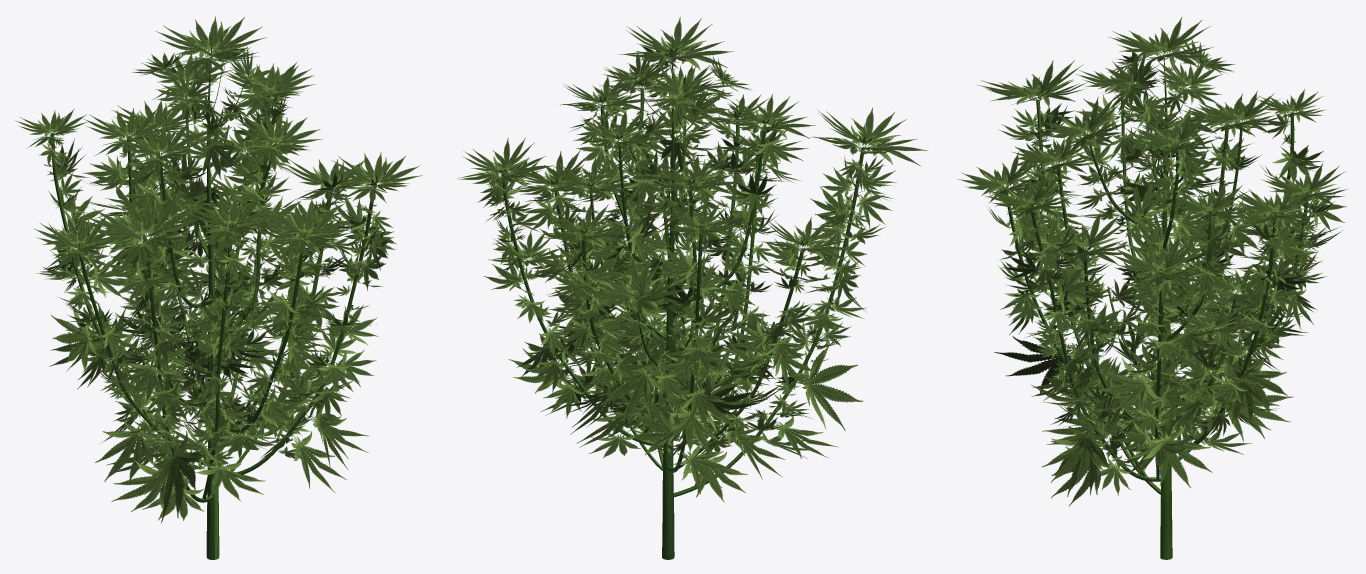
Rendered from Single_Maria_APPROVED.gltf.
3 renders of one model, left to right at view 1: azimuth 30°, elevation 25°; view 2: azimuth 150°, elevation 25°; view 3: azimuth 270°, elevation 25°, orthographic.
Parts seen in each view (by area): view 1: New_Final_Plant_Bake; view 2: New_Final_Plant_Bake; view 3: New_Final_Plant_Bake.
Part boxes in pixels (box(x1,y1,x2,y2)): New_Final_Plant_Bake: box(15, 16, 422, 559); New_Final_Plant_Bake: box(457, 17, 928, 559); New_Final_Plant_Bake: box(957, 17, 1348, 559).
Bounding box in the file's own units: 3.32 × 4.82 × 3.29.
Materials: 2 (2 with a texture image).
